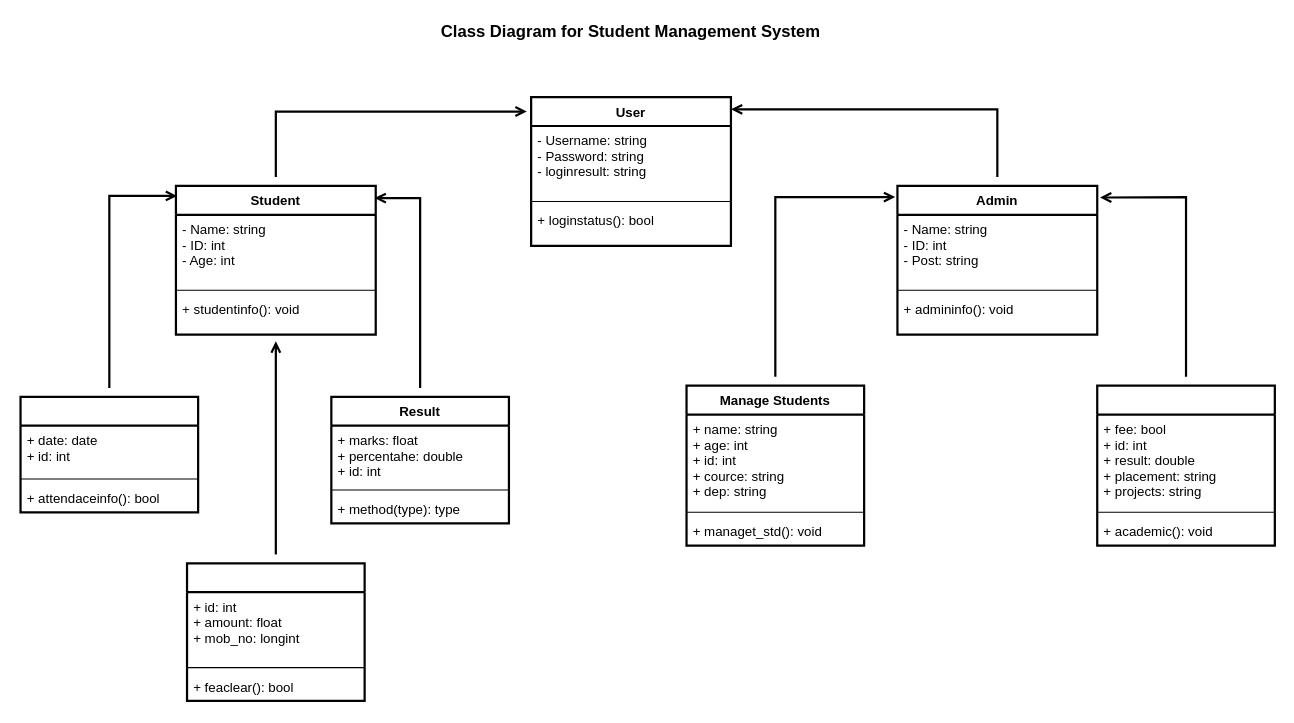
Some shapes in this 1294 by 723 pixel diagram are drawn without their labels. Here are the shapes that lost their labels. From the top down, the box of each, then its label:
(19, 395, 199, 513): Attendance
(1096, 384, 1275, 546): Manage Academic Activity
(185, 562, 365, 702): FEE's
